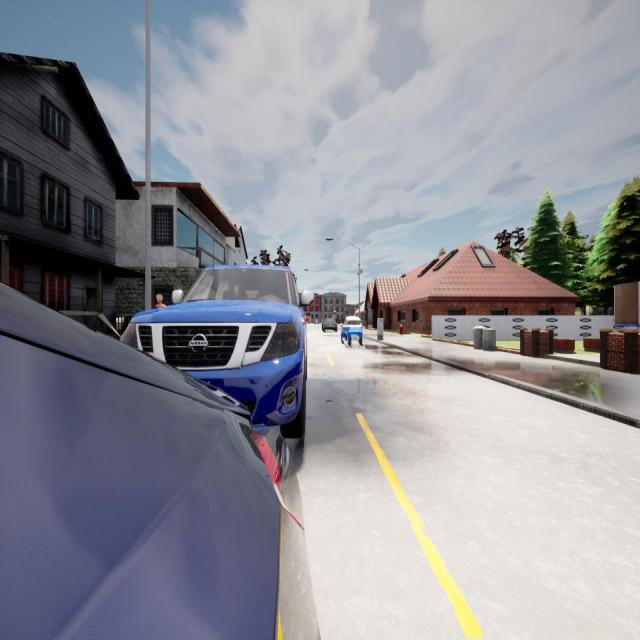Pedestrian: (155, 293, 164, 309)
Vehicle: (0, 285, 319, 638), (121, 266, 305, 438), (341, 317, 363, 346), (322, 318, 337, 332), (306, 315, 311, 324), (314, 318, 319, 325)
traffic_light: (334, 309, 335, 314)
